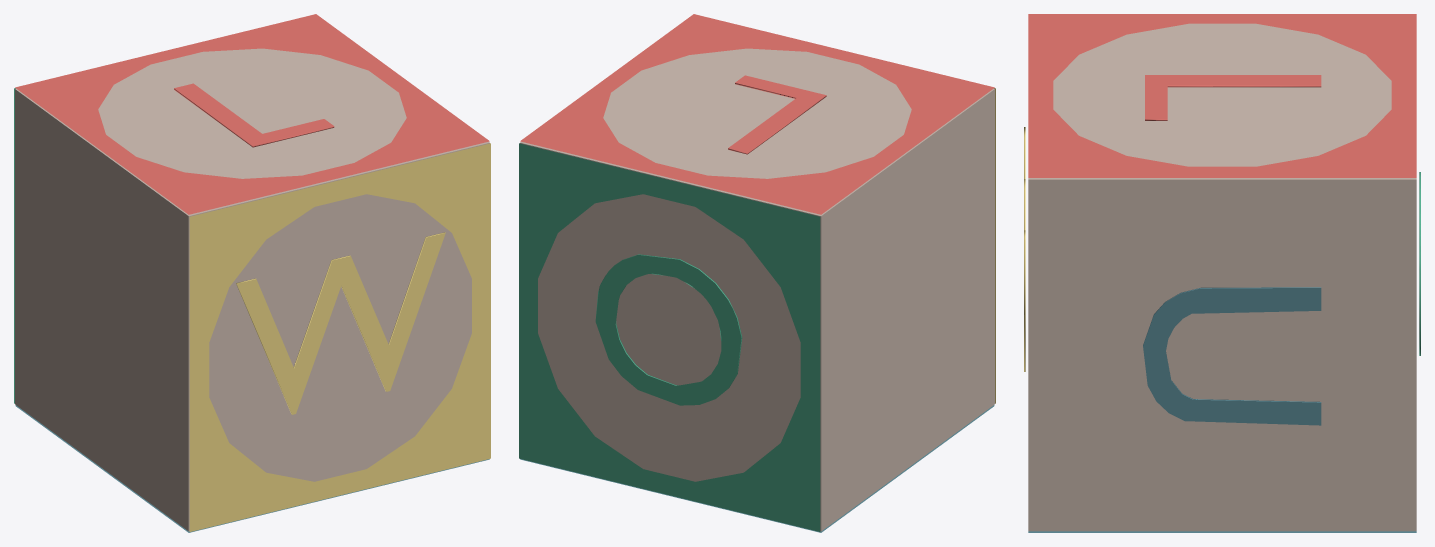
The picture shows the model from 3 angles, left to right: view 1: azimuth 30°, elevation 25°; view 2: azimuth 150°, elevation 25°; view 3: azimuth 270°, elevation 25°; orthographic projection. The views are drawn at different scales.
Visible parts, largest first — view 1: cube; view 2: cube; view 3: cube.
Part boxes in pixels (x1,y1,x2,y2): cube: [14, 14, 490, 532]; cube: [519, 14, 995, 532]; cube: [1024, 14, 1420, 532].
Bounding box in the file's own units: 0.0453 × 0.046 × 0.046.
